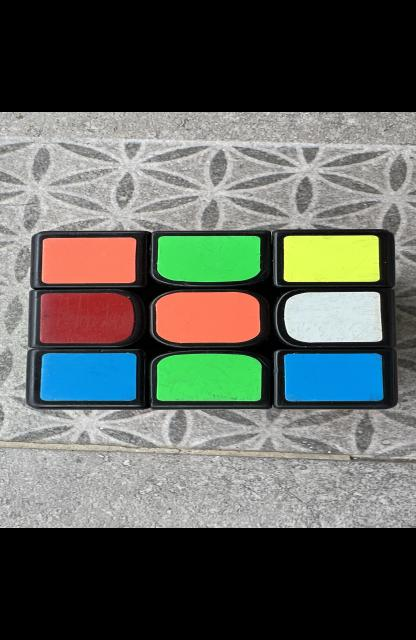Blue: (283, 353, 383, 401), (40, 353, 136, 400)
Green: (155, 353, 261, 401), (156, 236, 260, 282)
Orange: (155, 292, 260, 343), (40, 237, 135, 283)
Red: (38, 293, 133, 344)
White: (283, 292, 381, 343)
Yellow: (283, 236, 380, 282)
